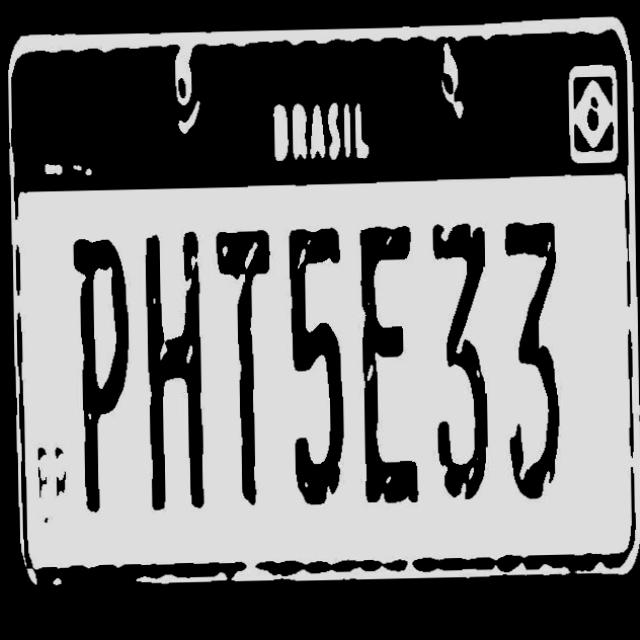3: (428, 225, 489, 503), (500, 223, 560, 504)
5: (285, 226, 348, 509)
e: (354, 224, 421, 508)
h: (143, 231, 205, 513)
p: (70, 235, 131, 517)
t: (212, 231, 275, 509)
